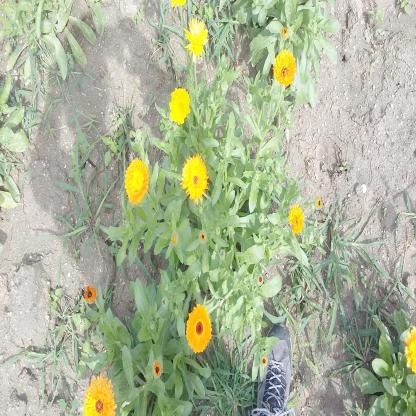marigold: (180, 154, 209, 204), (82, 375, 118, 415), (122, 156, 150, 206), (186, 302, 212, 354), (183, 16, 209, 63), (272, 48, 296, 87), (169, 86, 190, 125), (286, 201, 304, 235)
